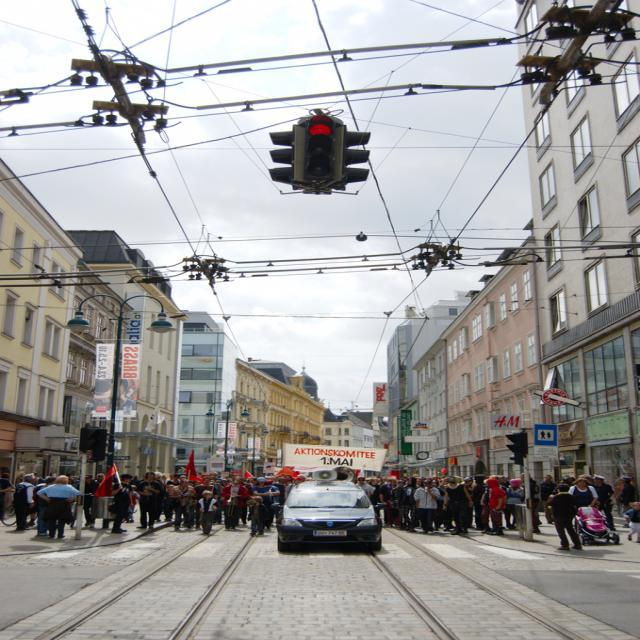off traffic light: (504, 431, 523, 467)
traffic light: (302, 117, 339, 184)
